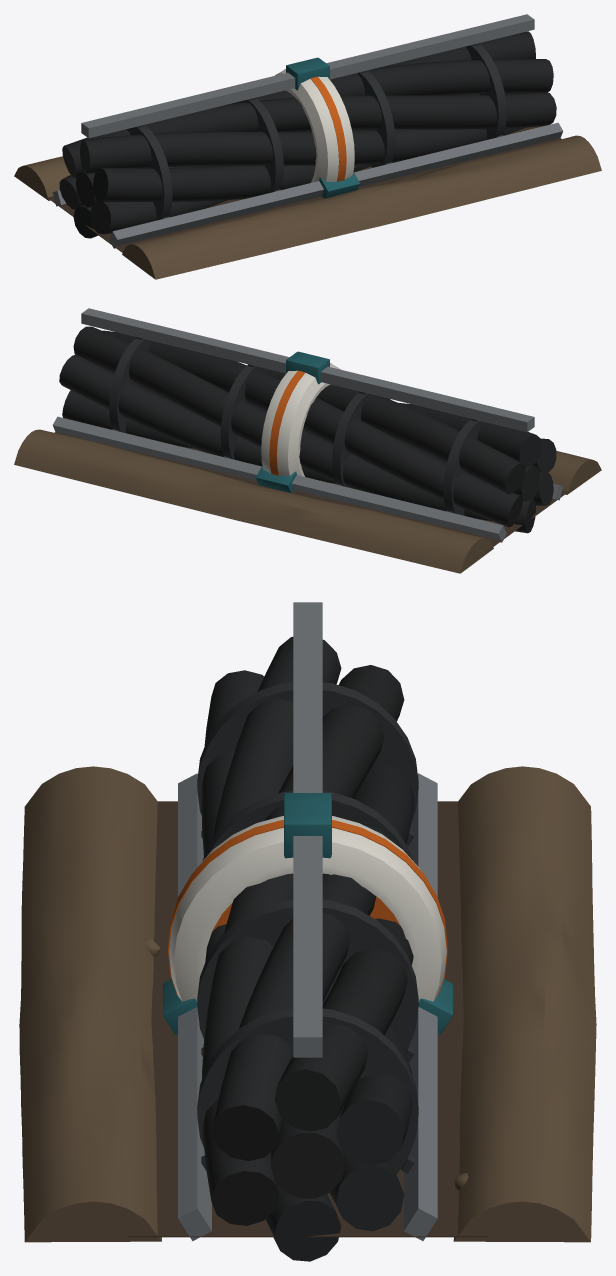
Rendered from tether-segment.glb.
3 renders of one model, top to bottom at view 1: azimuth 30°, elevation 25°; view 2: azimuth 150°, elevation 25°; view 3: azimuth 270°, elevation 25°, orthographic. The views are drawn at different scales.
Visible parts, largest first — view 1: Piece_lod0; view 2: Piece_lod0; view 3: Piece_lod0.
Part boxes in pixels (x1,y1,x2,y2): Piece_lod0: [14, 14, 601, 279]; Piece_lod0: [14, 308, 601, 573]; Piece_lod0: [19, 602, 596, 1261].
Size of what is drawn, in the model's own units: 60.85 by 17.15 by 33.63.
